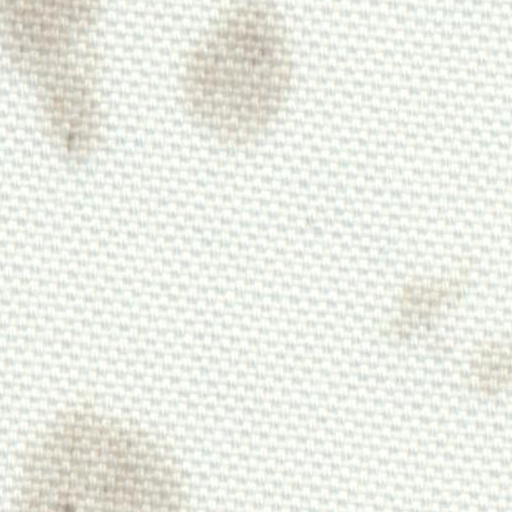WuZi: (9, 370, 189, 510), (168, 2, 304, 159), (376, 238, 508, 396), (1, 0, 116, 167)
